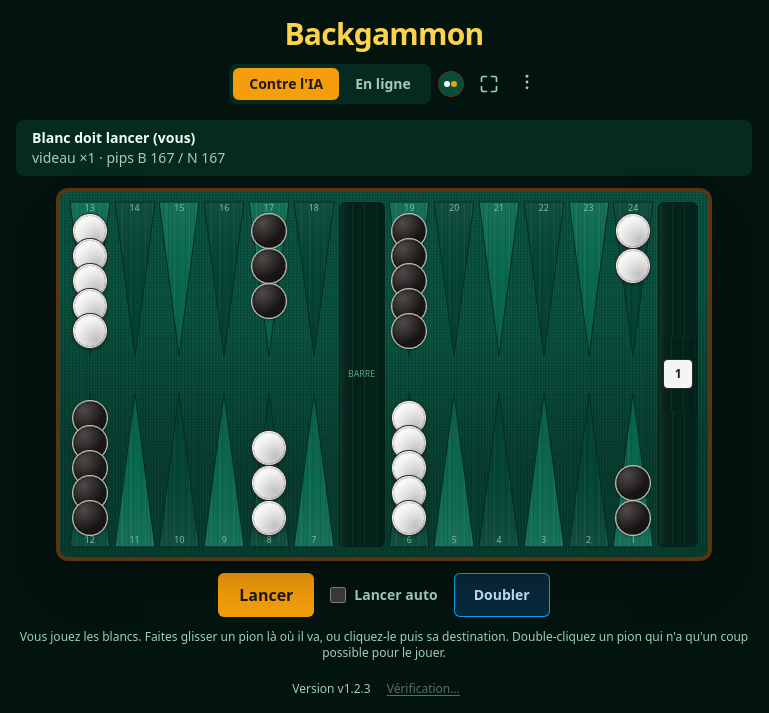
Test: the abandon-the-game action › closes on an outside click
The width and height of the screenshot is (769, 713).
Click the button named "Actions". click: point(527, 82)
box: [515, 70, 539, 94]
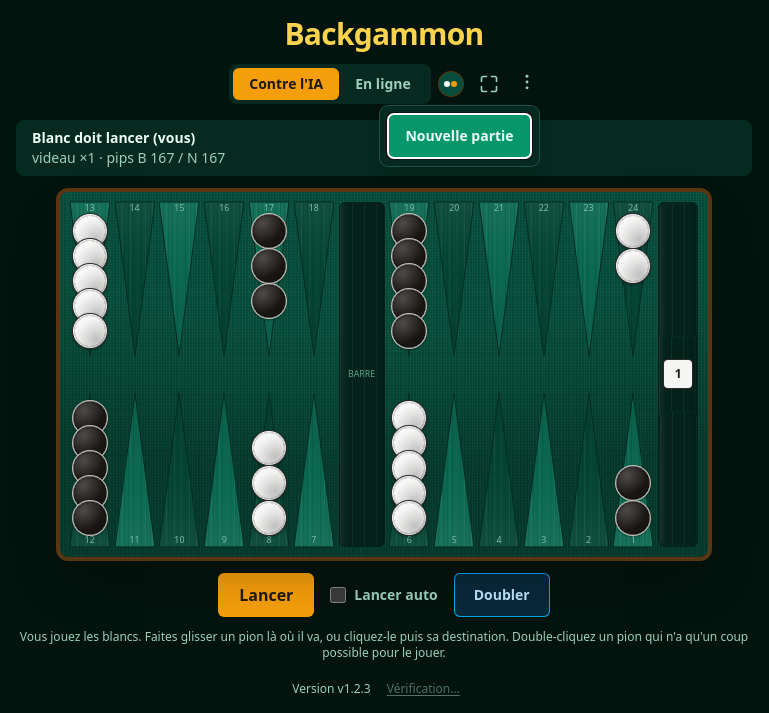
Press the mouse on the heading "Backgammon" at point(384, 34), box [284, 16, 484, 52]
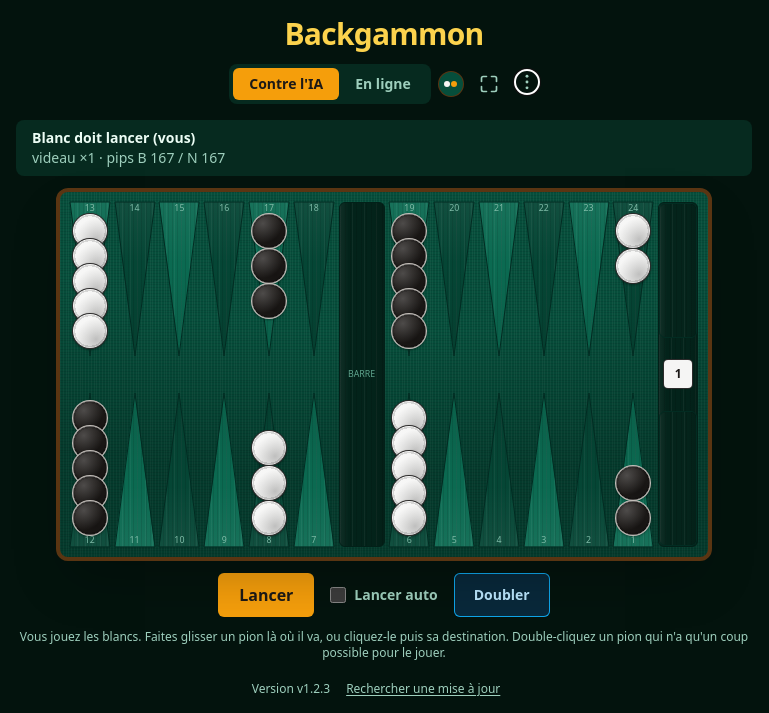
Check: the button named "Actions" is collapsed, box [515, 70, 539, 94]
